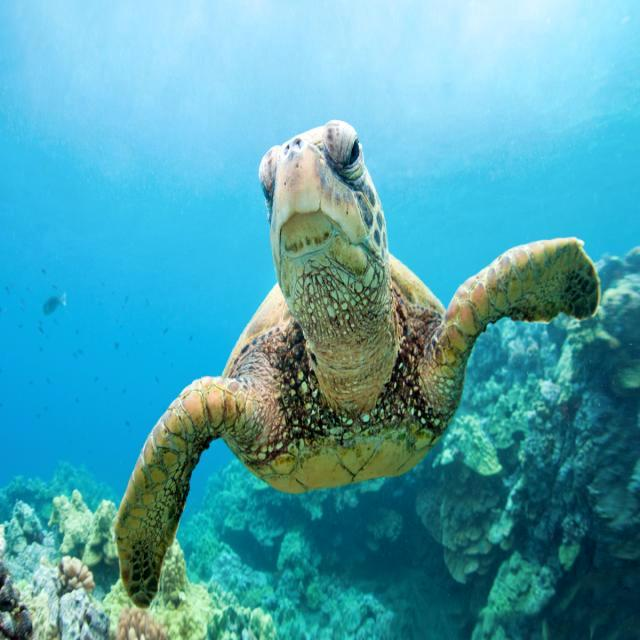Sea turtle: (111, 114, 604, 612)
